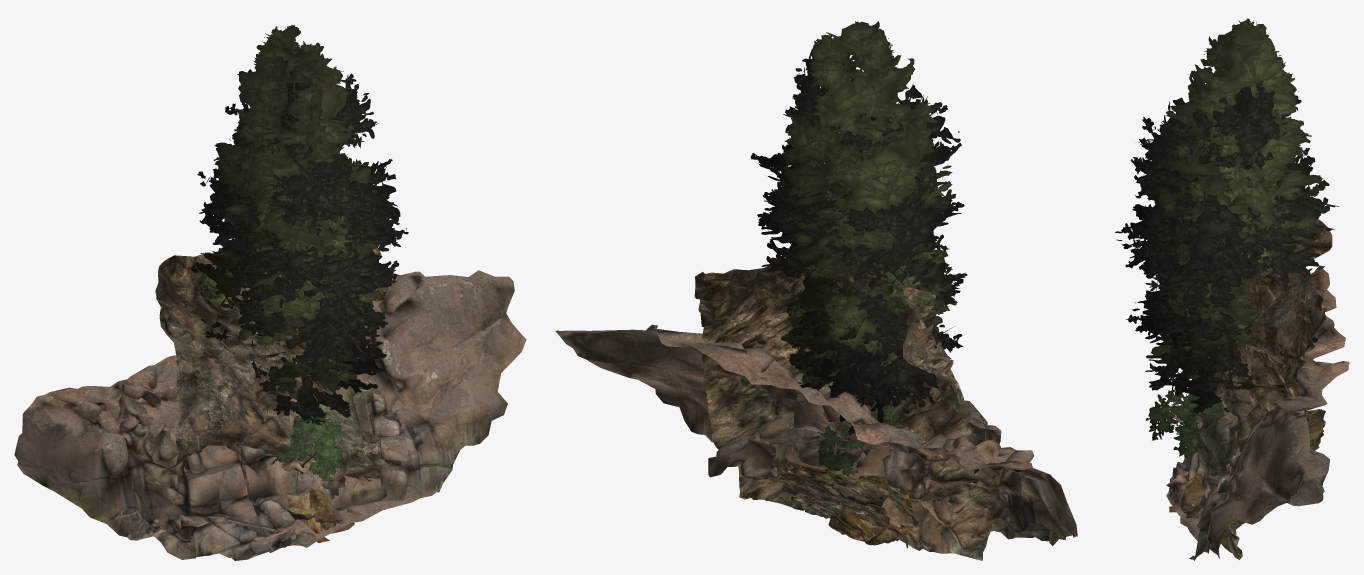
The model's file is scan_nature.glb.
3 renders of one model, left to right at view 1: azimuth 30°, elevation 25°; view 2: azimuth 150°, elevation 25°; view 3: azimuth 270°, elevation 25°, orthographic. The views are drawn at different scales.
Parts seen in each view (by area): view 1: namaqualand_cliff_02, mountainside, fir_a, pine_c, fir_a_far, pine_c_far, pine_b, pine_b_far, fir_b, broadleaf_small, broadleaf_small_far, fir_b_far (+3 smaller); view 2: mountainside, namaqualand_cliff_02, fir_a, fir_a_far, pine_c, pine_c_far, namaqualand_cliff_01, pine_b, pine_b_far, rock_face_01, fir_b, fir_b_far (+3 smaller); view 3: namaqualand_cliff_02, mountainside, pine_c, pine_c_far, fir_a, fir_a_far, pine_b, pine_b_far, broadleaf_small_far, fir_c, broadleaf_small, namaqualand_cliff_01 (+5 smaller).
Part boxes in pixels (x1,y1,x2,y2): namaqualand_cliff_02: [14, 270, 526, 560]; mountainside: [155, 247, 388, 499]; fir_a: [209, 25, 378, 392]; pine_c: [199, 71, 408, 415]; fir_a_far: [205, 27, 375, 390]; pine_c_far: [202, 75, 406, 413]; pine_b: [191, 143, 399, 424]; pine_b_far: [200, 160, 395, 419]; fir_b: [217, 195, 378, 417]; broadleaf_small: [275, 412, 345, 481]; broadleaf_small_far: [267, 416, 343, 478]; fir_b_far: [216, 193, 376, 401]; mountainside: [694, 265, 1001, 560]; namaqualand_cliff_02: [555, 324, 1077, 545]; fir_a: [774, 21, 952, 414]; fir_a_far: [777, 21, 951, 409]; pine_c: [750, 50, 967, 435]; pine_c_far: [758, 59, 961, 422]; namaqualand_cliff_01: [708, 425, 952, 553]; pine_b: [764, 167, 962, 416]; pine_b_far: [769, 152, 954, 404]; rock_face_01: [771, 457, 913, 534]; fir_b: [796, 146, 957, 415]; fir_b_far: [795, 149, 955, 405]; namaqualand_cliff_02: [1166, 265, 1349, 560]; mountainside: [1184, 219, 1332, 559]; pine_c: [1121, 82, 1339, 335]; pine_c_far: [1130, 80, 1334, 356]; fir_a: [1150, 18, 1322, 360]; fir_a_far: [1150, 24, 1321, 360]; pine_b: [1115, 144, 1325, 413]; pine_b_far: [1116, 156, 1329, 406]; broadleaf_small_far: [1149, 391, 1223, 455]; fir_c: [1145, 139, 1310, 357]; broadleaf_small: [1145, 389, 1224, 457]; namaqualand_cliff_01: [1209, 426, 1329, 558].
Bounding box in the file's own units: 20.2 × 19.64 × 8.6.
Materials: 53 (53 with a texture image).
